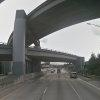Bridge: (4, 0, 95, 64)
